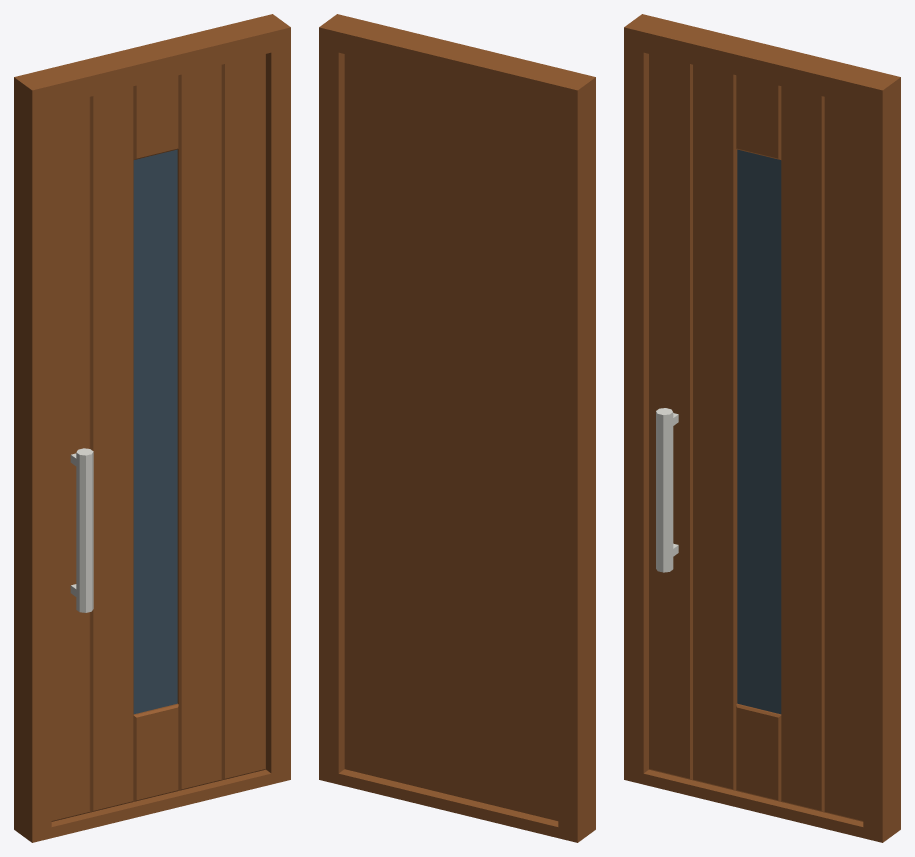
File: SM_Opening_Door07423_WoodBrown_01.gltf
The picture shows the model from 3 angles, left to right: view 1: azimuth 30°, elevation 25°; view 2: azimuth 150°, elevation 25°; view 3: azimuth 330°, elevation 25°; orthographic projection.
Parts seen in each view (by area): view 1: SM_Opening_Door07423_WoodBrown_01; view 2: SM_Opening_Door07423_WoodBrown_01; view 3: SM_Opening_Door07423_WoodBrown_01.
Boxes of the visible parts, <box> form: SM_Opening_Door07423_WoodBrown_01: <box>14,14,290,842</box>; SM_Opening_Door07423_WoodBrown_01: <box>319,14,595,842</box>; SM_Opening_Door07423_WoodBrown_01: <box>624,14,900,842</box>.
Size of the model in its own units: 0.86 by 2.39 by 0.1631.
1 material, 1 textured.
